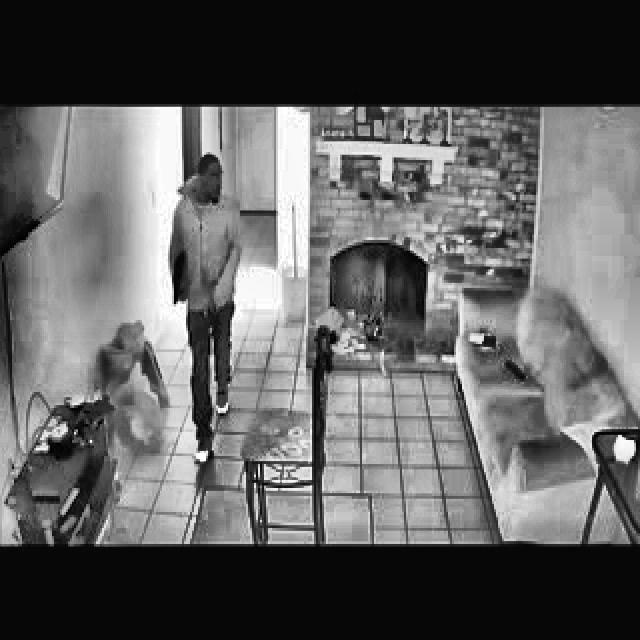burglary: (154, 148, 252, 474)
